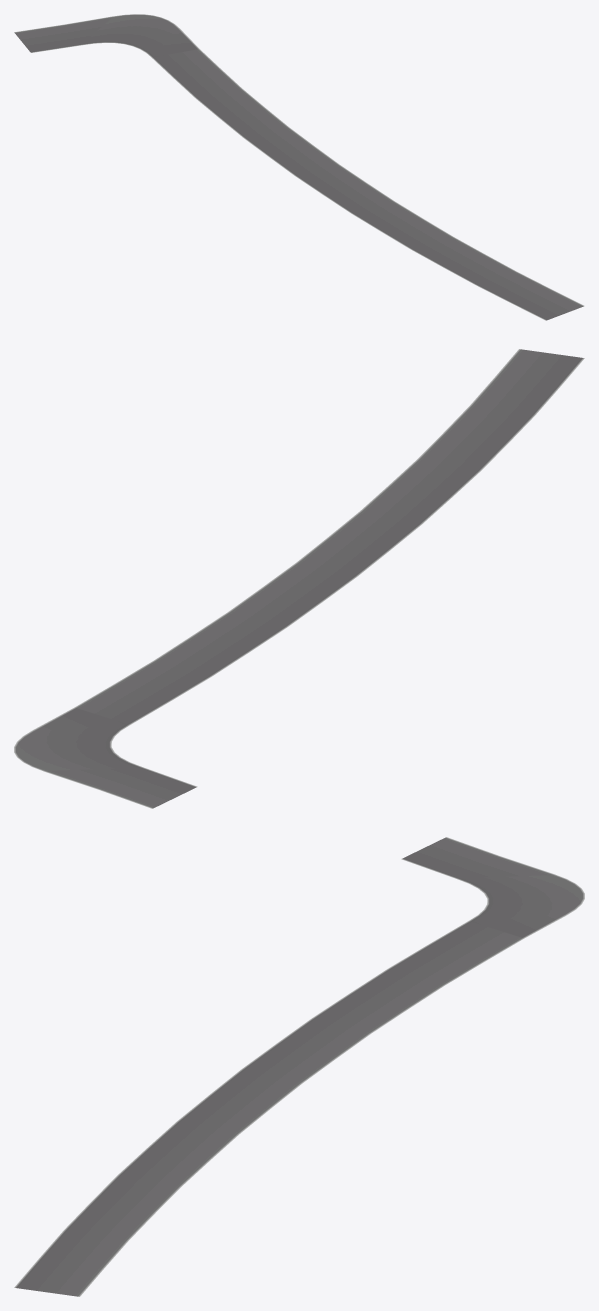
File: Club_VIPFloorStrip_01.FBX
3 renders of one model, top to bottom at view 1: azimuth 30°, elevation 25°; view 2: azimuth 150°, elevation 25°; view 3: azimuth 330°, elevation 25°, orthographic. The views are drawn at different scales.
Visible parts, largest first — view 1: Club_VIPFloorStrip_01; view 2: Club_VIPFloorStrip_01; view 3: Club_VIPFloorStrip_01.
Part boxes in pixels (box(x1,y1,x2,y2)): Club_VIPFloorStrip_01: box(14, 14, 584, 320); Club_VIPFloorStrip_01: box(14, 349, 584, 808); Club_VIPFloorStrip_01: box(14, 837, 584, 1296).
Bounding box in the file's own units: 3.15 × 4.24e-15 × 14.98.
